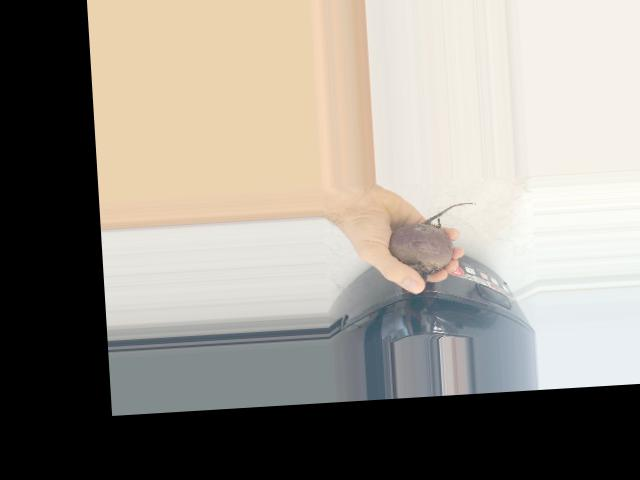beet: (387, 201, 480, 283)
